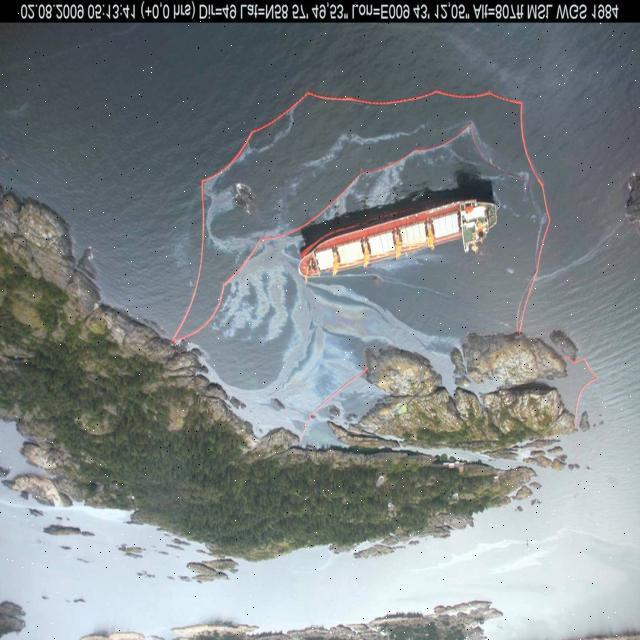oil spill: (227, 289, 452, 439), (222, 241, 307, 340), (328, 377, 384, 421)
